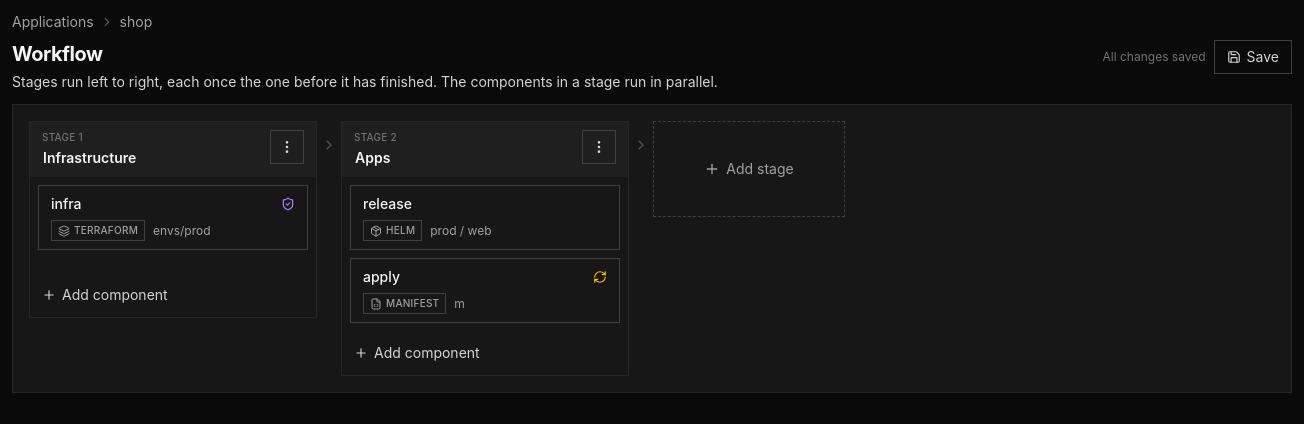
Scenario: WorkflowBuilder › clicking a card opens the component's page: its settings, read-only
Step 1. Click the text "release" → coordinates (388, 204), box x1=363 y1=194 x2=412 y2=214
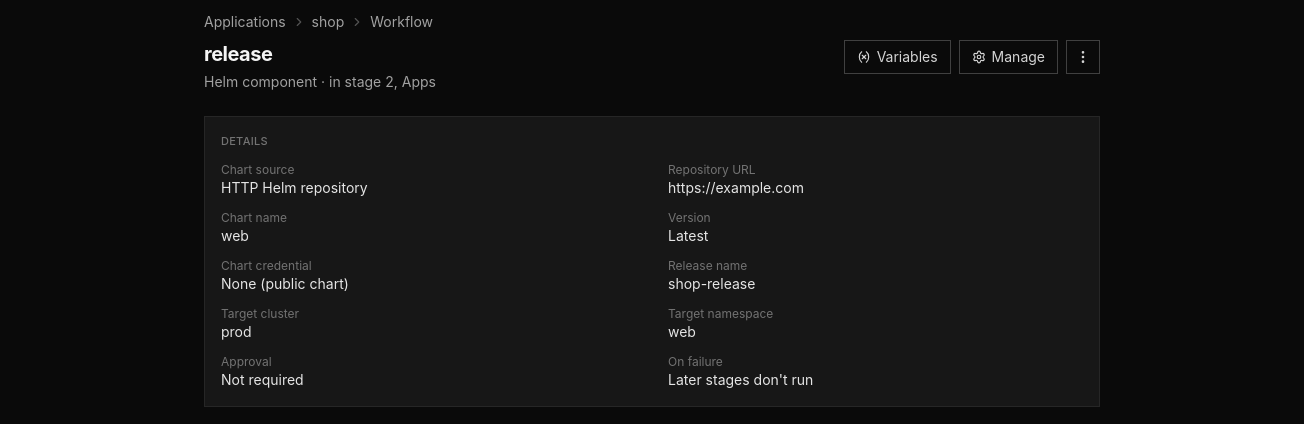
Now the heading "release" is shown, box x1=204 y1=42 x2=272 y2=66
Now the text "Helm component · in stage 2, Apps" is shown, box x1=204 y1=72 x2=436 y2=92
Now the text "https://example.com" is shown, box x1=668 y1=178 x2=804 y2=196
